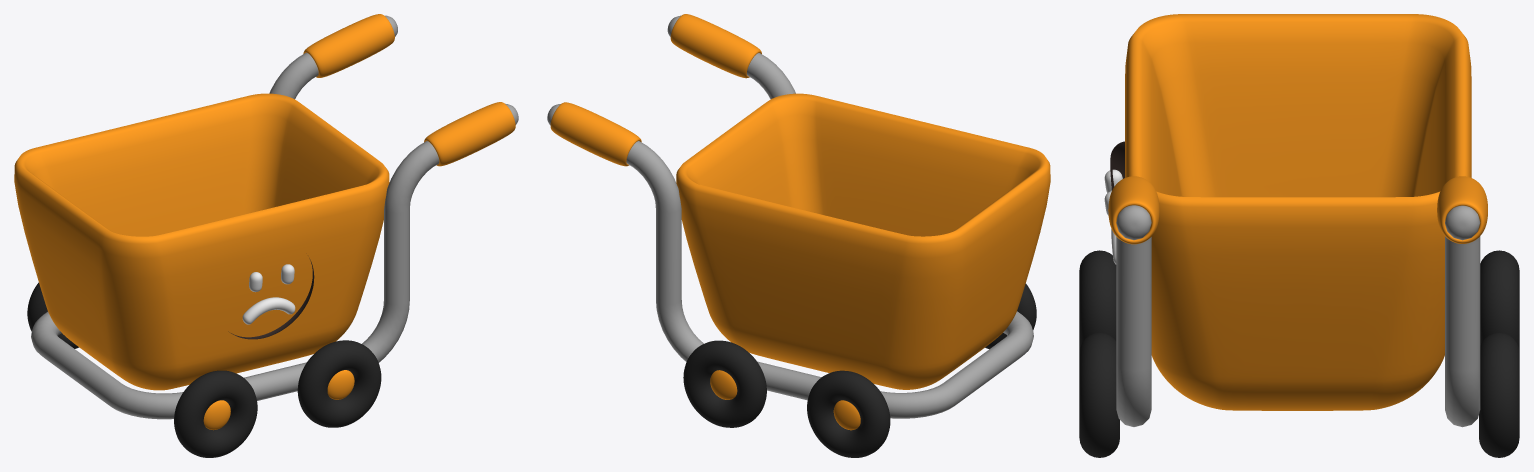
File: empty-cart-animated-3d-icon-479640773260.glb
3 views of the same model, side by side, from view 1: azimuth 30°, elevation 25°; view 2: azimuth 150°, elevation 25°; view 3: azimuth 270°, elevation 25° (orthographic). The views are drawn at different scales.
Parts seen in each view (by area): view 1: Cart, Frame, Handle, Wheel.002, Wheel.001, Mouth.001, Wheel.004, Rim, Rim.001; view 2: Cart, Frame, Handle, Wheel.006, Wheel.004, Rim.002, Wheel.001, Rim.003; view 3: Cart, Frame, Wheel.006, Wheel.002, Handle, Wheel.004, Wheel.001, Head.
Boxes of the visible parts, left/top/right/bottom form: Cart: left=14, top=93, right=389, bottom=390; Frame: left=31, top=15, right=518, bottom=419; Handle: left=303, top=14, right=515, bottom=166; Wheel.002: left=297, top=340, right=381, bottom=427; Wheel.001: left=174, top=370, right=257, bottom=457; Mouth.001: left=242, top=297, right=295, bottom=324; Wheel.004: left=27, top=282, right=78, bottom=348; Rim: left=203, top=400, right=230, bottom=430; Rim.001: left=327, top=370, right=354, bottom=399; Cart: left=676, top=93, right=1050, bottom=389; Frame: left=547, top=15, right=1033, bottom=418; Handle: left=550, top=14, right=761, bottom=166; Wheel.006: left=683, top=340, right=766, bottom=427; Wheel.004: left=807, top=370, right=890, bottom=457; Rim.002: left=833, top=400, right=860, bottom=430; Wheel.001: left=985, top=283, right=1036, bottom=349; Rim.003: left=710, top=370, right=737, bottom=399; Cart: left=1125, top=14, right=1471, bottom=410; Frame: left=1116, top=205, right=1480, bottom=427; Wheel.006: left=1479, top=332, right=1519, bottom=457; Wheel.002: left=1079, top=332, right=1119, bottom=457; Handle: left=1108, top=176, right=1487, bottom=244; Wheel.004: left=1480, top=250, right=1519, bottom=351; Wheel.001: left=1079, top=250, right=1116, bottom=351; Head: left=1110, top=141, right=1124, bottom=190.
Size of what is drawn, in the model's own units: 2.22 by 1.45 by 1.57.
